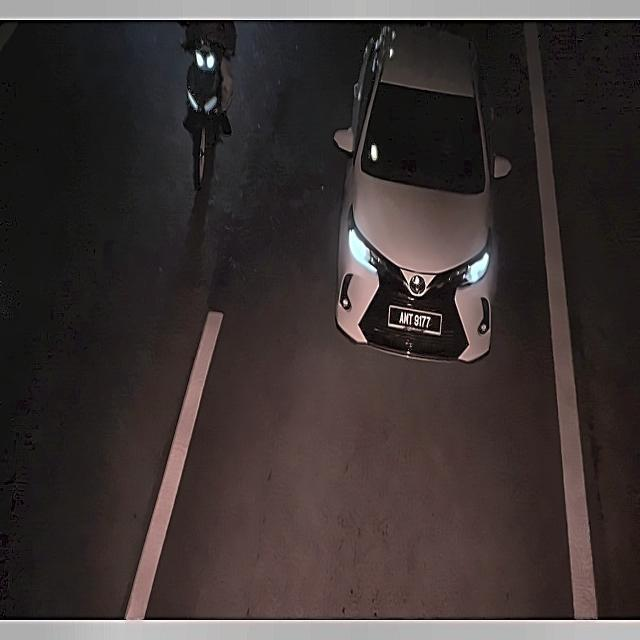car: (384, 301, 448, 338)
